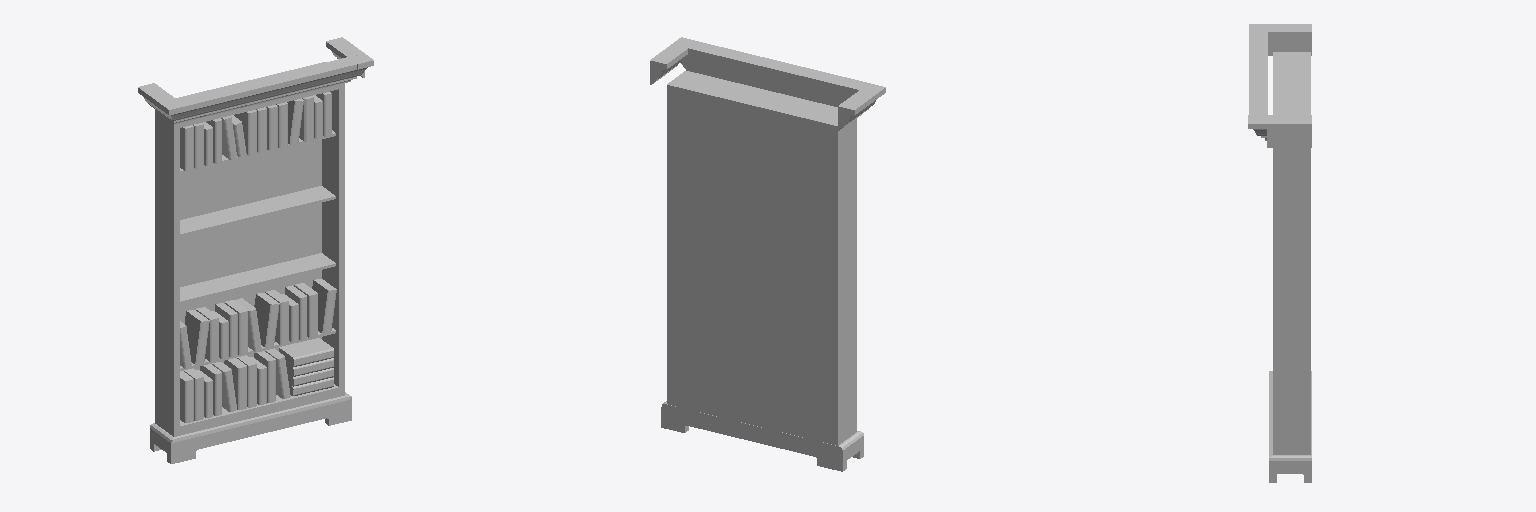
The picture shows the model from 3 angles: view 1: azimuth 30°, elevation 25°; view 2: azimuth 150°, elevation 25°; view 3: azimuth 270°, elevation 25°; orthographic projection.
Parts seen in each view (by area): view 1: book01; view 2: book01; view 3: book01.
Part boxes in pixels (x1,y1,x2,y2): book01: (138,37,373,463); book01: (650,37,885,471); book01: (1248,24,1311,482).
Bounding box in the file's own units: 1.6 × 2.71 × 0.4278.